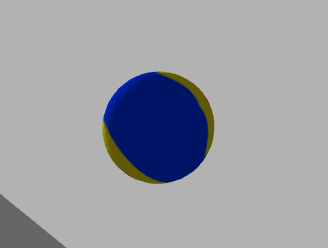toy story ball: (102, 71, 214, 184)
